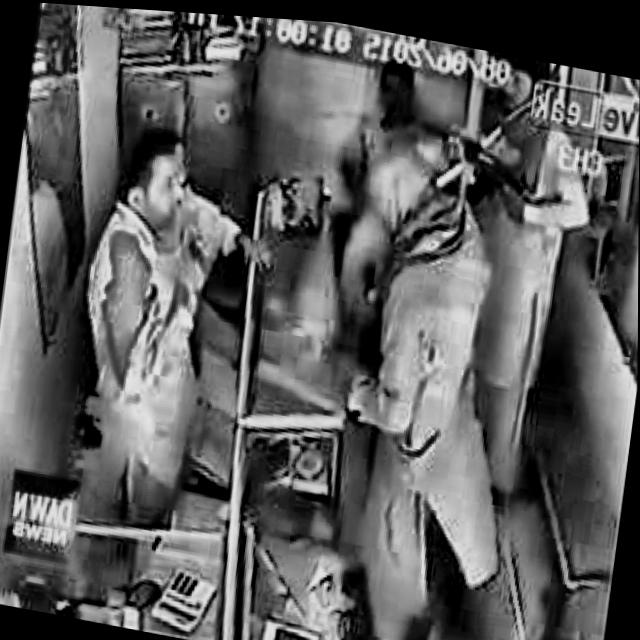robbery: (309, 19, 611, 472)
